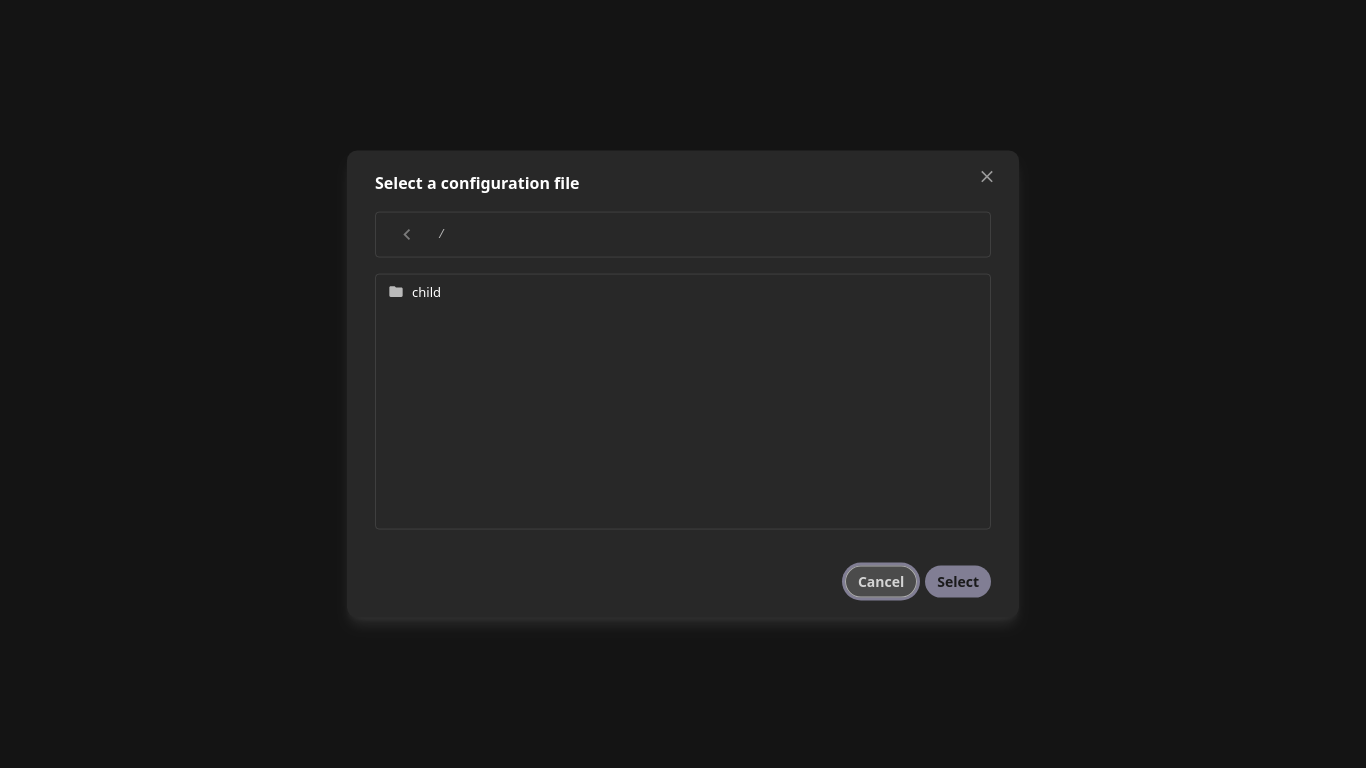
Test: FolderBrowser › navigates into a child folder on click and updates the header path
Check: the text "child" is shown, box [412,282,441,300]
Step 1. Click the button "child" → (396, 292), box [376,274,990,309]
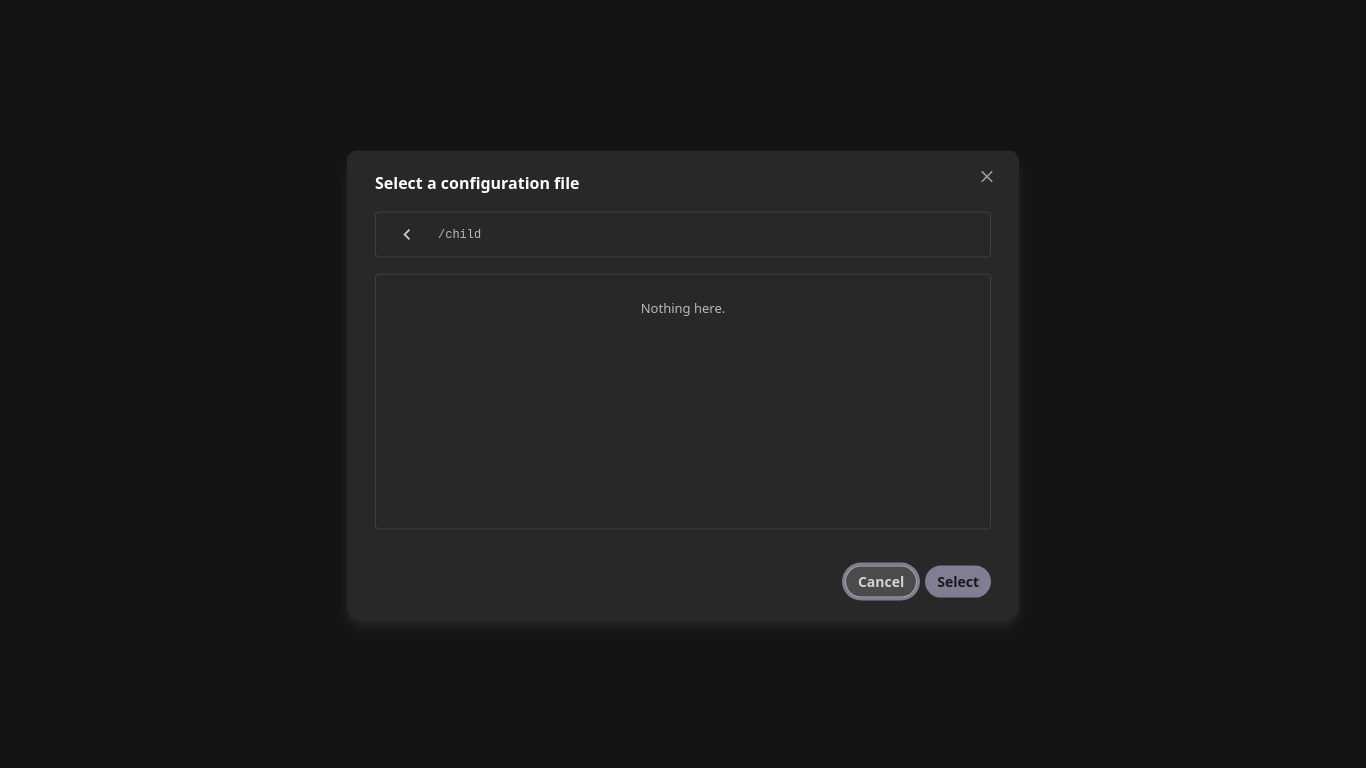
Check: the text with test id "folder-browser-path" reads "/child", box [438,227,481,241]
